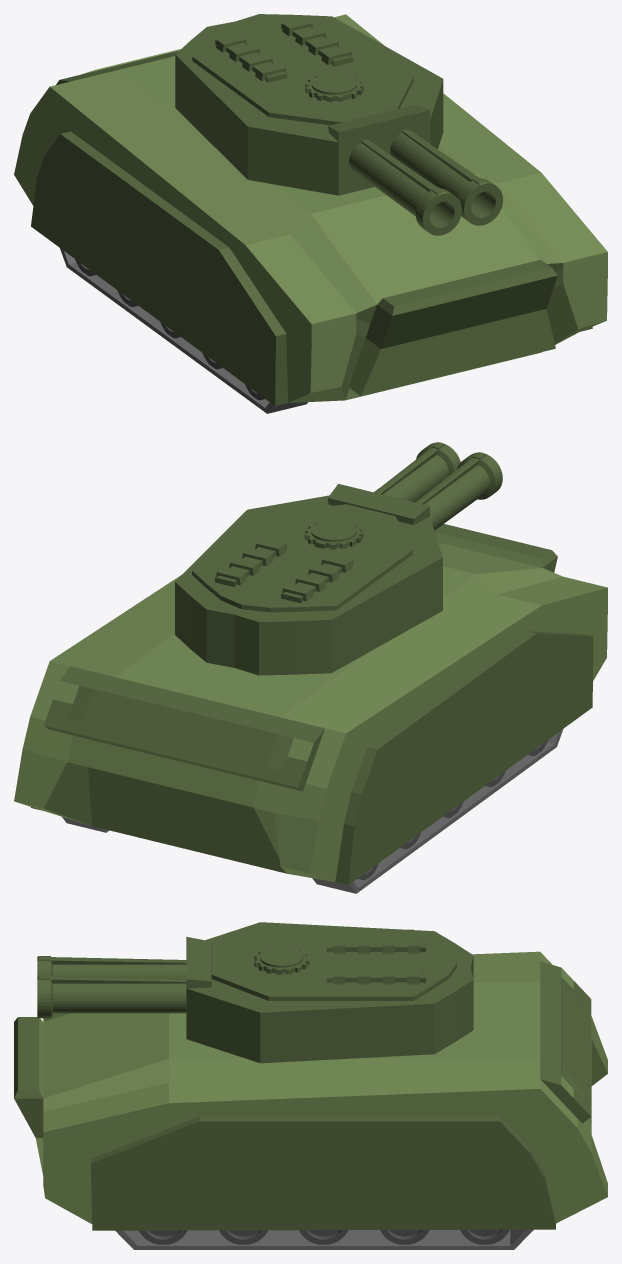
File: tier2.fbx
3 views of the same model, one above another, from view 1: azimuth 30°, elevation 25°; view 2: azimuth 150°, elevation 25°; view 3: azimuth 270°, elevation 25° (orthographic). The views are drawn at different scales.
Parts seen in each view (by area): view 1: Body5, Turret5, Main Gun5, Tracks5, Road Wheels5; view 2: Body5, Turret5, Main Gun5, Tracks5; view 3: Body5, Turret5, Main Gun5, Tracks5, Road Wheels5.
Boxes of the visible parts, left/top/right/bottom form: Body5: left=14, top=14, right=607, bottom=406; Turret5: left=175, top=14, right=443, bottom=195; Main Gun5: left=328, top=105, right=503, bottom=235; Tracks5: left=60, top=248, right=307, bottom=413; Road Wheels5: left=75, top=259, right=264, bottom=400; Body5: left=14, top=524, right=607, bottom=885; Turret5: left=175, top=495, right=442, bottom=675; Main Gun5: left=328, top=442, right=502, bottom=530; Tracks5: left=62, top=729, right=563, bottom=893; Body5: left=14, top=951, right=607, bottom=1230; Turret5: left=186, top=922, right=473, bottom=1063; Main Gun5: left=37, top=936, right=211, bottom=1038; Tracks5: left=115, top=1229, right=533, bottom=1249; Road Wheels5: left=139, top=1229, right=509, bottom=1244.
Size of the model in its own units: 386 by 277 by 659.
